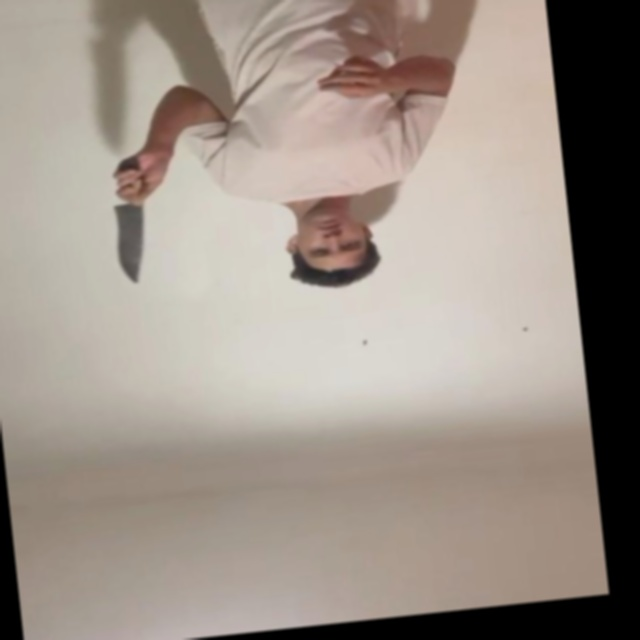Sharp-Object: (109, 206, 153, 284)
